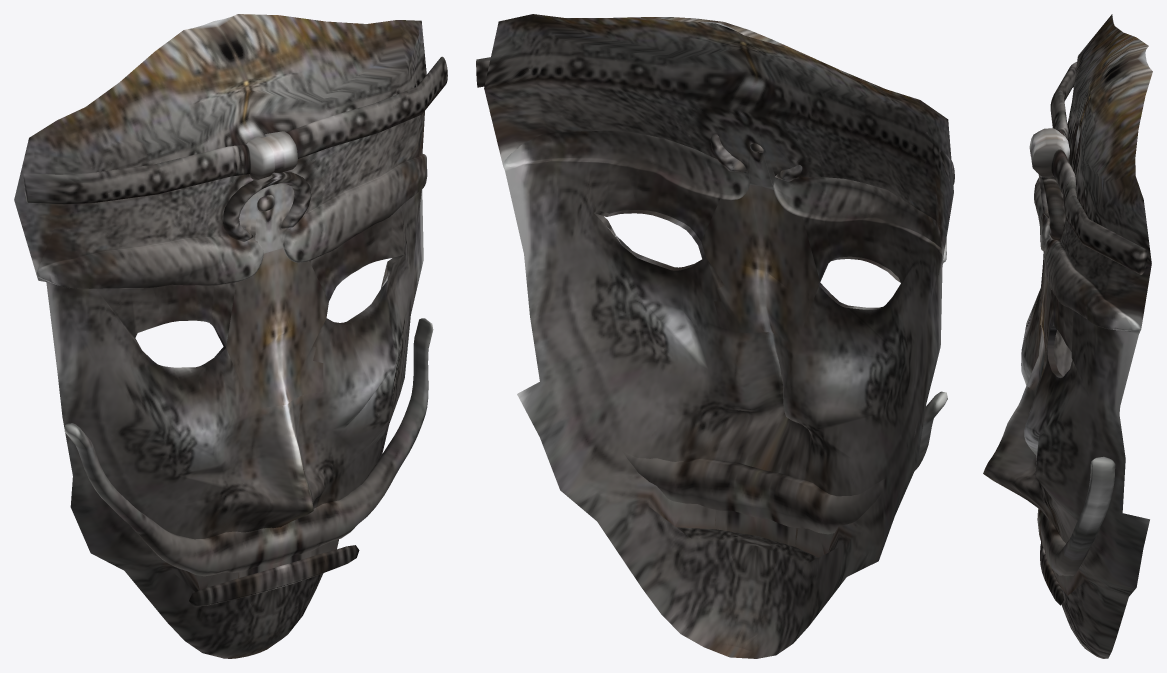
Rendered from soloMask.fbx.
The picture shows the model from 3 angles, left to right: view 1: azimuth 30°, elevation 25°; view 2: azimuth 150°, elevation 25°; view 3: azimuth 270°, elevation 25°; orthographic projection. The views are drawn at different scales.
Visible parts, largest first — view 1: polySurface2; view 2: polySurface2; view 3: polySurface2.
Boxes of the visible parts, x1=… form: polySurface2: x1=14, y1=14, x2=447, y2=658; polySurface2: x1=476, y1=14, x2=954, y2=658; polySurface2: x1=983, y1=14, x2=1152, y2=658.
Size of the model in its own units: 7.73 by 10.34 by 2.69.
